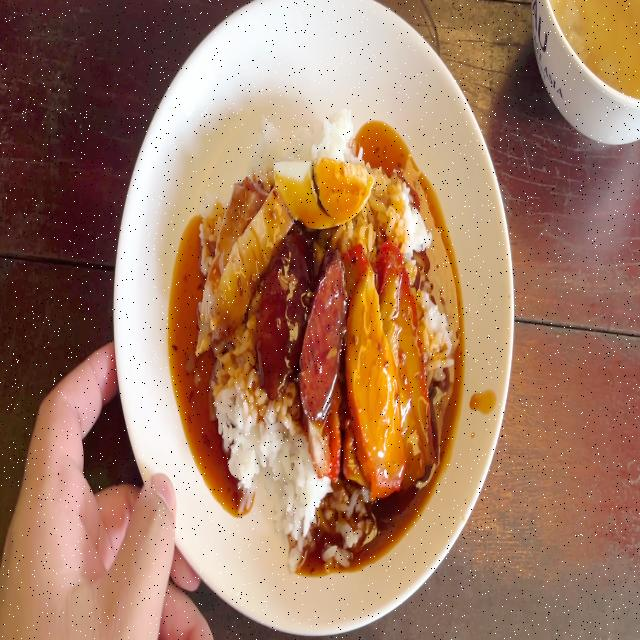boiled_egg: (272, 158, 374, 227)
chainese_sausage: (255, 237, 348, 394)
crispy_pork: (197, 173, 284, 335)
red_pork: (348, 244, 431, 471), (385, 248, 439, 474), (349, 253, 396, 479)
red_pork_and_crispy_pork: (194, 111, 456, 555)
rice: (204, 348, 275, 487), (371, 173, 425, 253), (276, 462, 321, 544)
